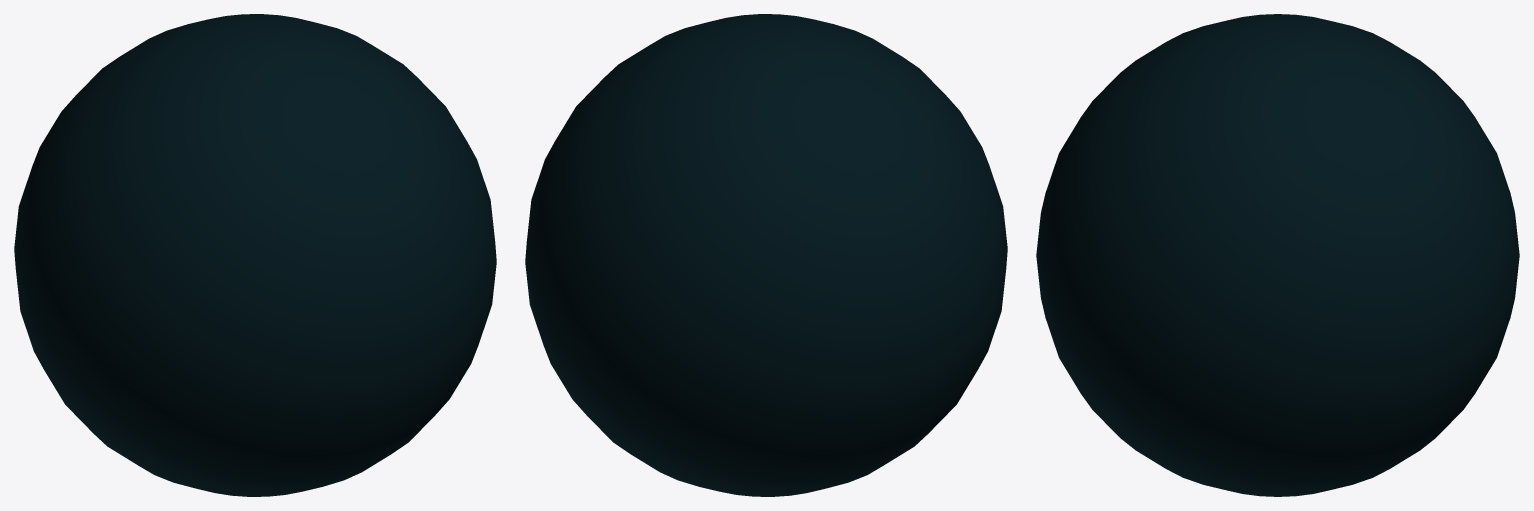
Rendered from animation.gltf.
3 renders of one model, left to right at view 1: azimuth 30°, elevation 25°; view 2: azimuth 150°, elevation 25°; view 3: azimuth 270°, elevation 25°, orthographic.
Parts seen in each view (by area): view 1: Sphere.001; view 2: Sphere.001; view 3: Sphere.001.
Boxes of the visible parts, x1,y1,x2,y2 form: Sphere.001: [14, 14, 496, 496]; Sphere.001: [525, 14, 1007, 496]; Sphere.001: [1036, 14, 1519, 496].
Bounding box in the file's own units: 200 × 200 × 200.
